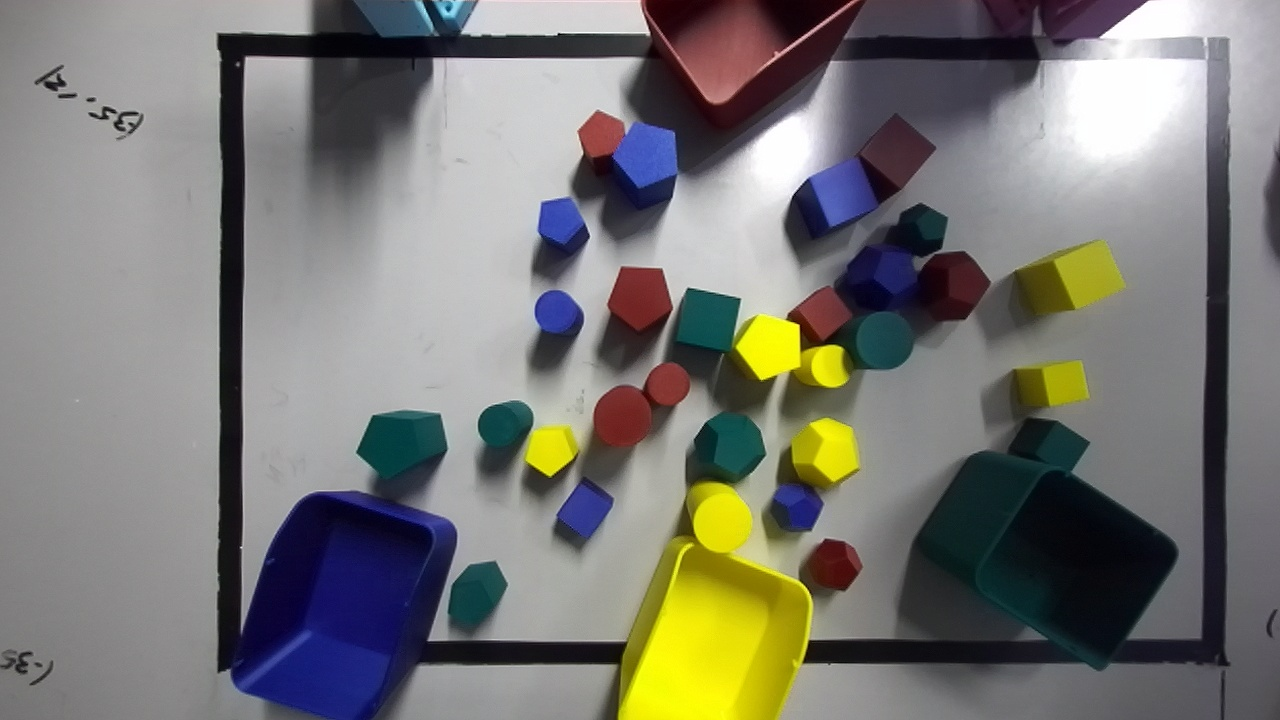bin: (916, 452, 1177, 668), (231, 492, 455, 719), (618, 537, 811, 719), (642, 0, 864, 127)
cube: (1014, 240, 1124, 314), (857, 114, 935, 200), (793, 158, 877, 236), (1009, 417, 1089, 470), (674, 288, 740, 351), (787, 286, 851, 344), (1013, 360, 1089, 406), (556, 477, 613, 538)
cylinder: (832, 311, 914, 369), (686, 481, 751, 552), (593, 385, 650, 446), (477, 400, 532, 447), (793, 345, 851, 387), (534, 290, 583, 334), (644, 362, 689, 405)
dodecahedron: (693, 412, 765, 481), (919, 251, 990, 320), (843, 245, 917, 310), (791, 417, 859, 487), (886, 203, 947, 255), (806, 538, 862, 590), (769, 483, 823, 531)
hexagonal: (356, 410, 447, 478), (612, 122, 677, 208), (730, 314, 800, 380), (607, 266, 671, 331), (448, 561, 506, 628), (577, 110, 625, 174), (537, 197, 589, 253), (524, 425, 578, 476)
